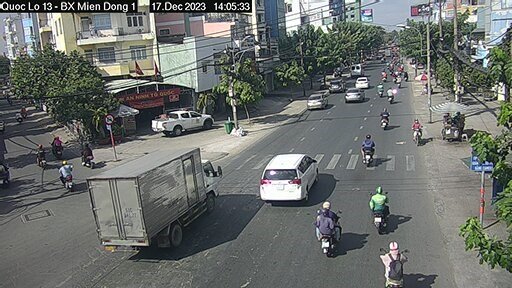car: (260, 151, 319, 203), (150, 109, 215, 136), (302, 91, 334, 112), (345, 87, 366, 107), (328, 77, 349, 95), (355, 74, 371, 91)
motorbike: (380, 241, 411, 288), (316, 205, 342, 254), (370, 191, 397, 234), (359, 133, 375, 167), (411, 118, 426, 150), (58, 158, 73, 188), (79, 145, 98, 167), (381, 106, 393, 130), (385, 89, 396, 106), (377, 81, 386, 99)
truck: (98, 148, 219, 253)
